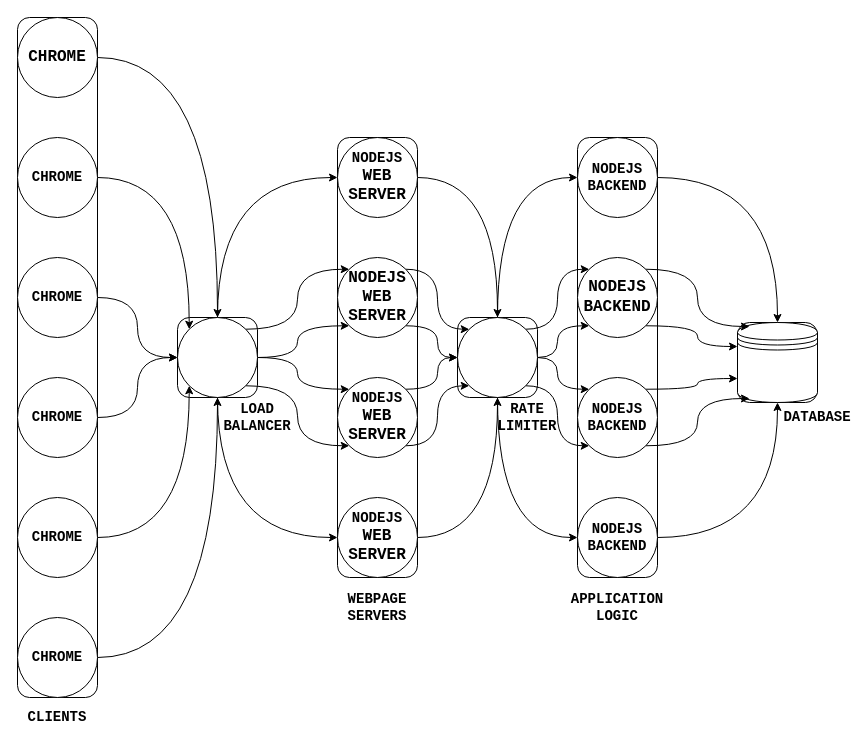
The diagram is 868 pixels wide and 745 high, and some of its shapes have lost their labels. Here are the shapes that lost their labels. From the top down, the box of each, then its label:
(176, 316, 258, 398): NGINX
(456, 316, 538, 398): NODEJS SERVICE QUEUE
(736, 322, 818, 402): MONGODB
